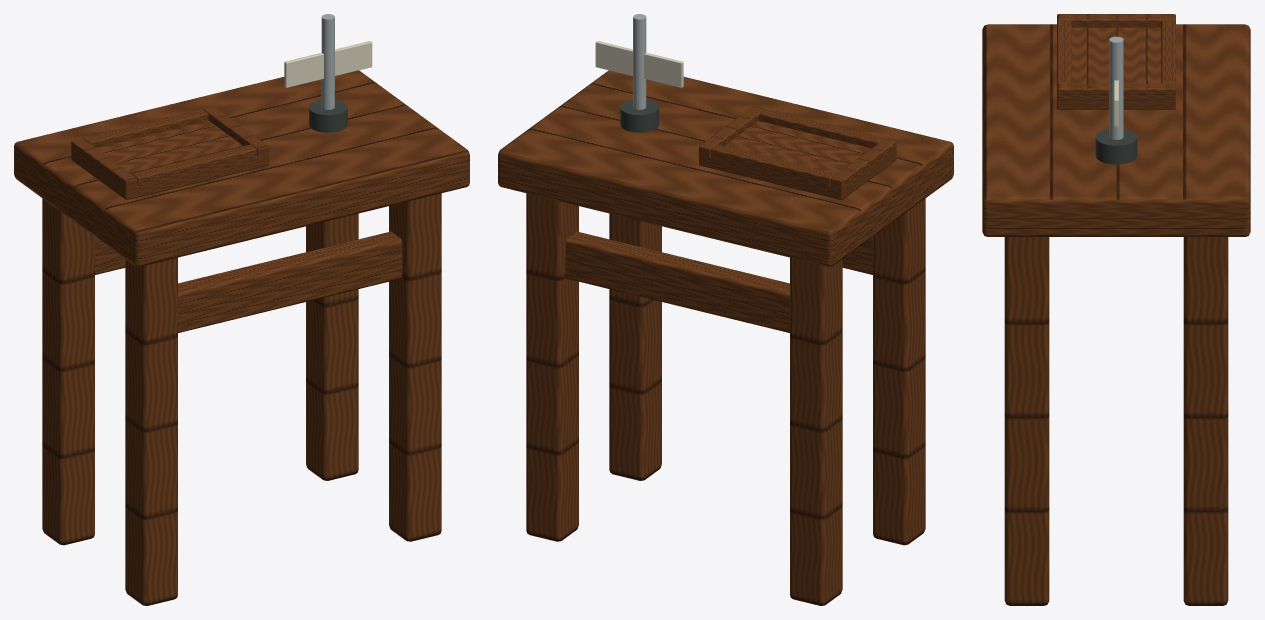
Rendered from prehistoric-expedition-sites-tagging-station-de4f45c0__26130.glb.
3 views of the same model, side by side, from view 1: azimuth 30°, elevation 25°; view 2: azimuth 150°, elevation 25°; view 3: azimuth 270°, elevation 25° (orthographic). The views are drawn at different scales.
Visible parts, largest first — view 1: tagging-station; view 2: tagging-station; view 3: tagging-station.
Boxes of the visible parts, x1,y1,x2,y2 form: tagging-station: [14, 14, 469, 605]; tagging-station: [498, 14, 953, 605]; tagging-station: [982, 14, 1250, 605].
Bounding box in the file's own units: 0.7 × 0.99 × 0.45.
4 materials, 1 textured.
